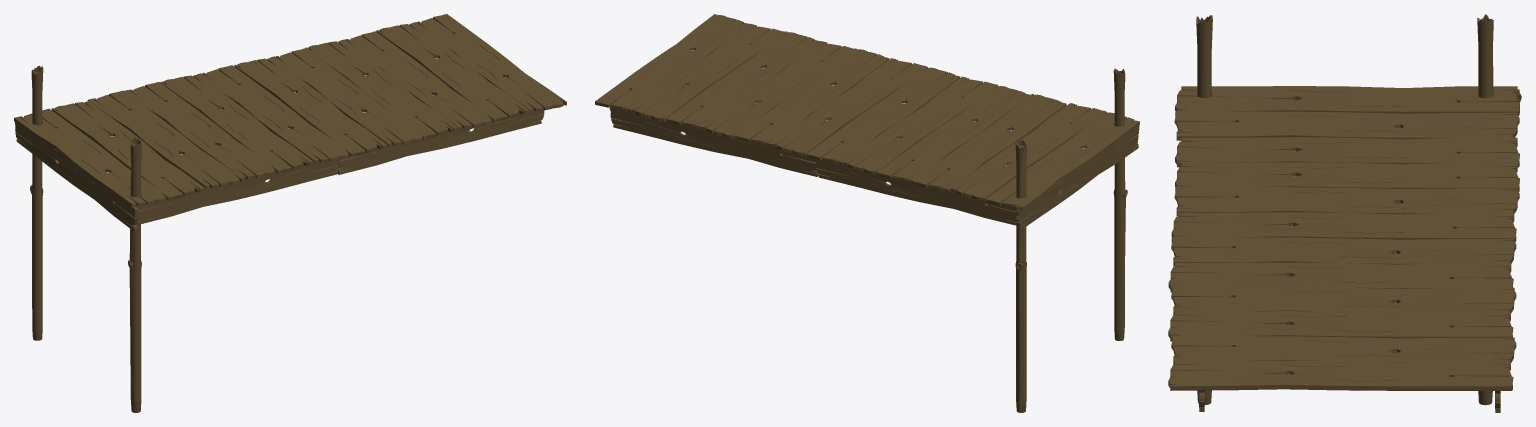
File: quai_FBX.fbx
3 renders of one model, left to right at view 1: azimuth 30°, elevation 25°; view 2: azimuth 150°, elevation 25°; view 3: azimuth 270°, elevation 25°, orthographic. The views are drawn at different scales.
Parts seen in each view (by area): view 1: planche2, planche8, planche5, planche12, planche9, planche4, planche3, polySurface1, planche15, planche11, planche10, planche1 (+5 smaller); view 2: planche2, planche8, planche12, planche5, planche4, planche9, planche3, polySurface1, planche15, planche11, planche10, planche1 (+5 smaller); view 3: planche15, planche1, planche5, planche11, planche2, planche4, planche3, planche8, polySurface1, planche9, planche10, planche12 (+2 smaller).
Boxes of the visible parts, x1=… form: planche2: x1=87, y1=90, x2=242, y2=189; planche8: x1=234, y1=58, x2=387, y2=156; planche5: x1=197, y1=65, x2=351, y2=163; planche12: x1=376, y1=23, x2=529, y2=121; planche9: x1=270, y1=48, x2=425, y2=146; planche4: x1=160, y1=74, x2=313, y2=173; planche3: x1=124, y1=82, x2=277, y2=180; polySurface1: x1=14, y1=108, x2=168, y2=207; planche15: x1=412, y1=14, x2=566, y2=112; planche11: x1=340, y1=31, x2=495, y2=129; planche10: x1=305, y1=41, x2=457, y2=139; planche1: x1=51, y1=101, x2=204, y2=200; planche2: x1=912, y1=94, x2=1066, y2=192; planche8: x1=772, y1=58, x2=926, y2=156; planche12: x1=632, y1=23, x2=785, y2=121; planche5: x1=806, y1=67, x2=960, y2=165; planche4: x1=843, y1=76, x2=997, y2=175; planche9: x1=735, y1=48, x2=889, y2=147; planche3: x1=877, y1=85, x2=1030, y2=183; polySurface1: x1=986, y1=112, x2=1139, y2=210; planche15: x1=595, y1=14, x2=748, y2=112; planche11: x1=666, y1=31, x2=819, y2=130; planche10: x1=703, y1=41, x2=856, y2=139; planche1: x1=950, y1=103, x2=1105, y2=201; planche15: x1=1168, y1=360, x2=1513, y2=390; planche1: x1=1174, y1=111, x2=1519, y2=140; planche5: x1=1171, y1=212, x2=1516, y2=242; planche11: x1=1168, y1=311, x2=1513, y2=341; planche2: x1=1175, y1=137, x2=1519, y2=167; planche4: x1=1174, y1=186, x2=1519, y2=216; planche3: x1=1175, y1=162, x2=1519, y2=191; planche8: x1=1171, y1=237, x2=1516, y2=266; polySurface1: x1=1175, y1=86, x2=1519, y2=115; planche9: x1=1168, y1=262, x2=1513, y2=292; planche10: x1=1171, y1=286, x2=1516, y2=315; planche12: x1=1171, y1=335, x2=1516, y2=364.
Bounding box in the file's own units: 17.08 × 10.26 × 8.5.
